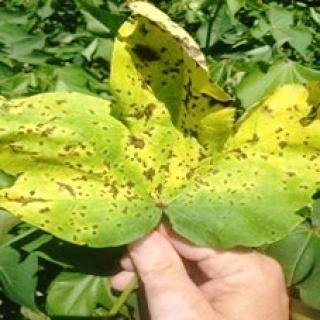blight: (3, 30, 314, 235)
